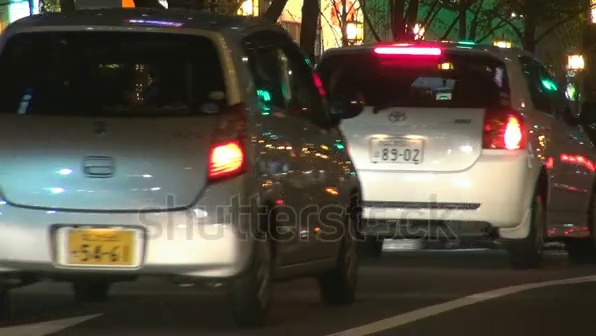licenseplate: (67, 229, 132, 267), (365, 137, 425, 166)
